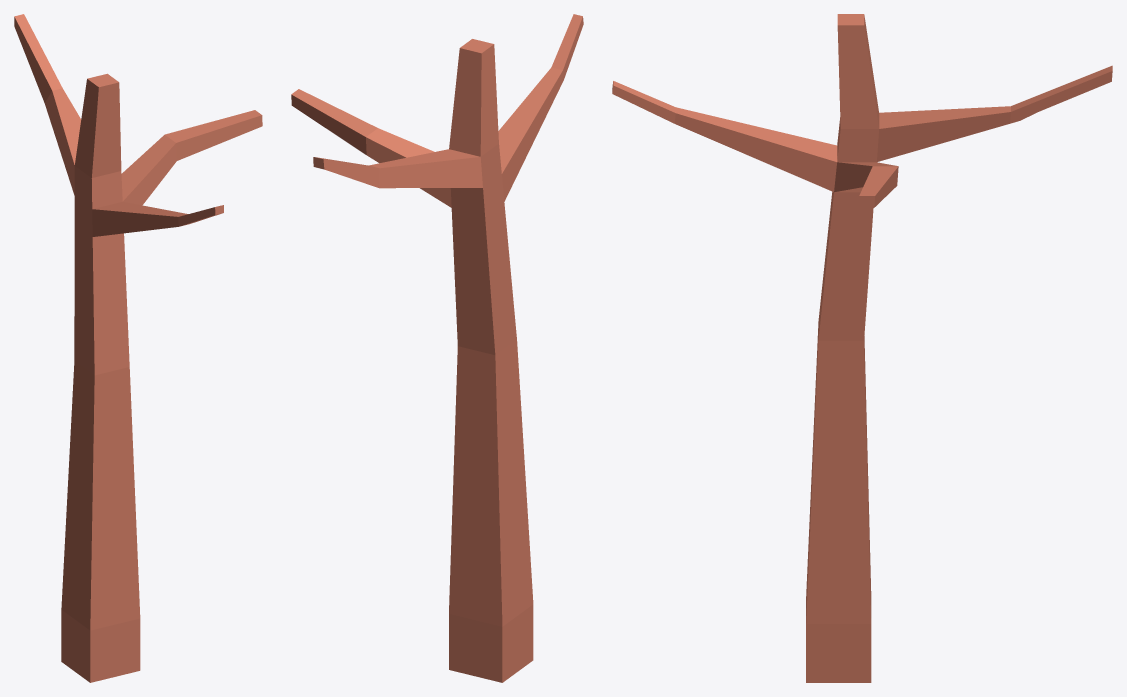
The model's file is tree1.fbx.
3 renders of one model, left to right at view 1: azimuth 30°, elevation 25°; view 2: azimuth 150°, elevation 25°; view 3: azimuth 270°, elevation 25°, orthographic. The views are drawn at different scales.
Visible parts, largest first — view 1: Cube; view 2: Cube; view 3: Cube.
Part boxes in pixels (x1,y1,x2,y2): Cube: (14, 14, 262, 682); Cube: (291, 14, 583, 682); Cube: (612, 14, 1112, 682).
Size of the model in its own units: 253 by 719 by 498.
